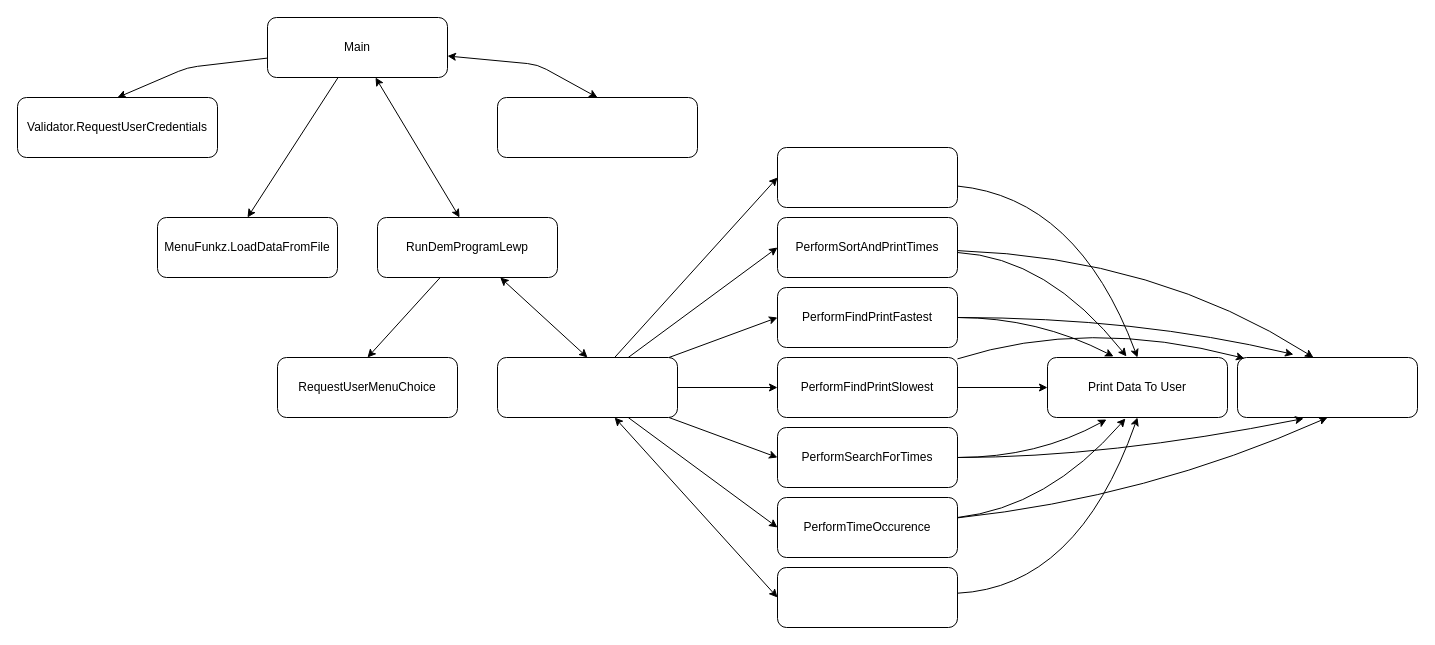
Some shapes in this 1435 by 645 pixel diagram are drawn without their labels. Each missing label, with the centre of its shape:
"Act On Menu Choice" goes at point (587, 387).
"ExitProgram" goes at point (867, 597).
"PerformReadAndDisplayFile" goes at point (867, 177).
"Validator.CheckIfPasswordValid" goes at point (597, 127).
"Write Data To File" goes at point (1327, 387).
